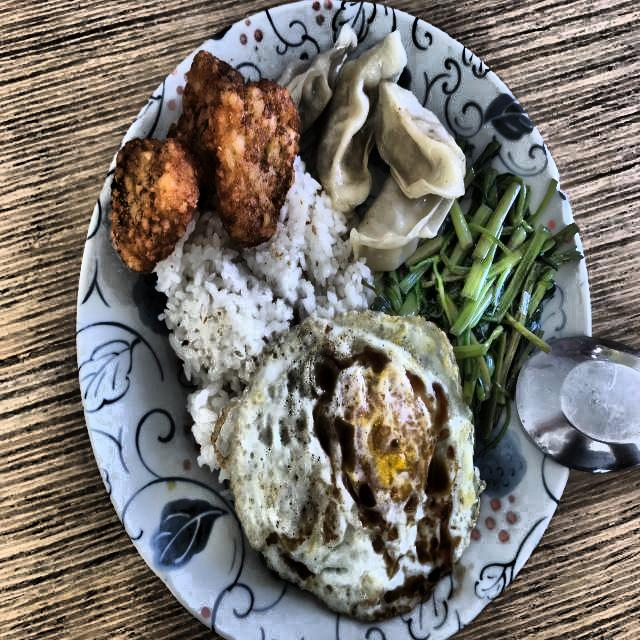Food: (227, 313, 486, 616), (102, 54, 299, 274), (297, 28, 464, 266), (162, 212, 346, 370), (444, 162, 547, 382)
